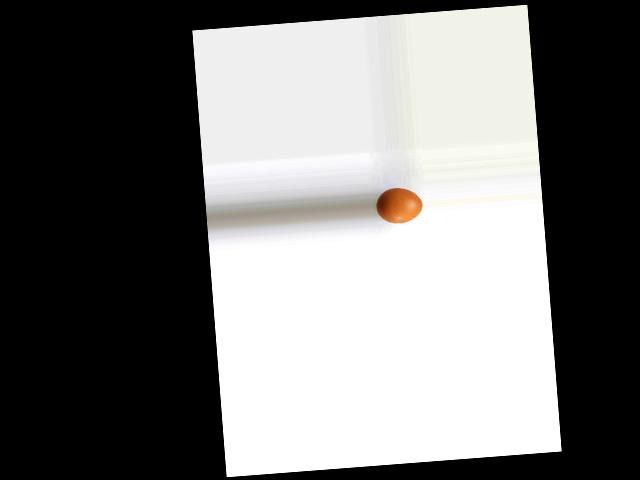egg: (375, 185, 423, 224)
